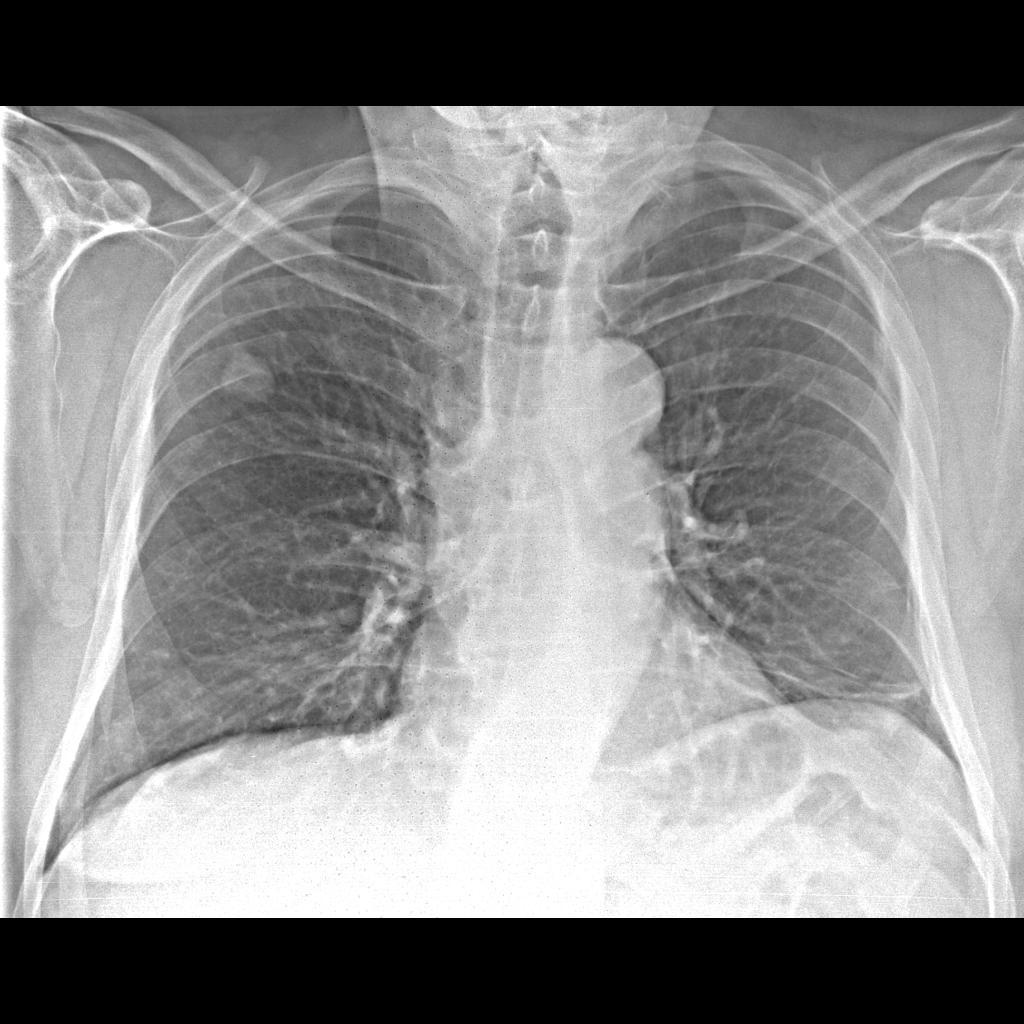Nodule: (216, 345, 288, 412)
